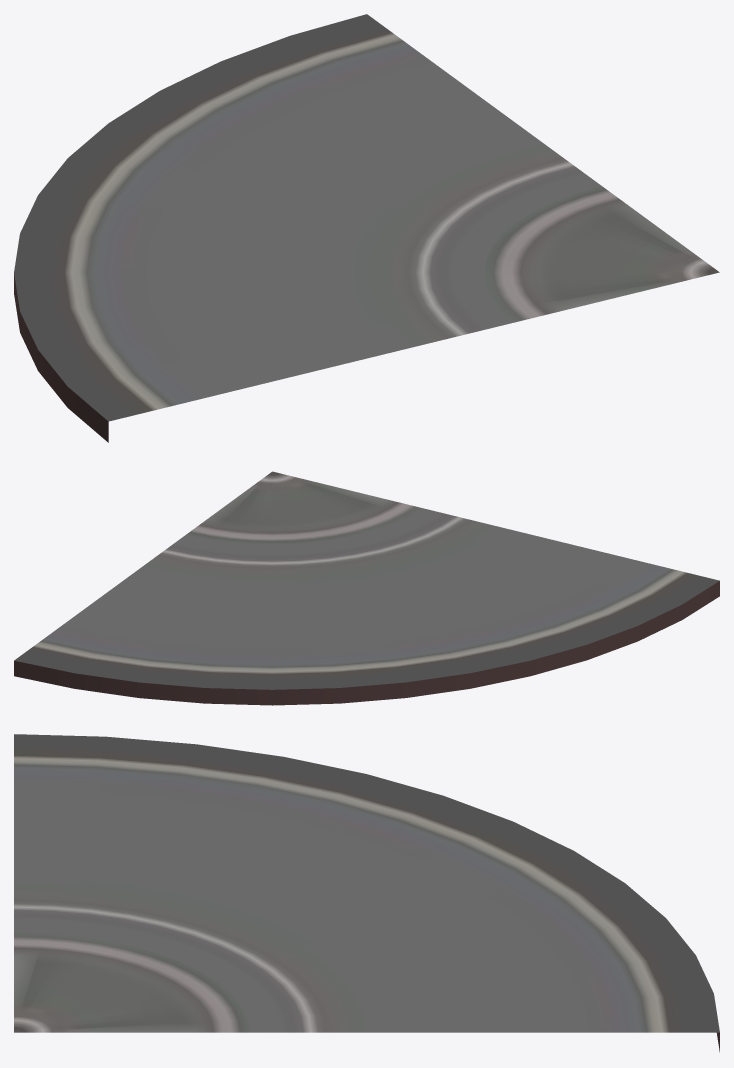
Rendered from BottomMetal_Corner_Square_Outer_1.glb.
3 renders of one model, top to bottom at view 1: azimuth 30°, elevation 25°; view 2: azimuth 150°, elevation 25°; view 3: azimuth 270°, elevation 25°, orthographic. The views are drawn at different scales.
Parts seen in each view (by area): view 1: BottomMetal_Corner_Square_Outer_1; view 2: BottomMetal_Corner_Square_Outer_1; view 3: BottomMetal_Corner_Square_Outer_1.
Part boxes in pixels (box(x1,y1,x2,y2)): BottomMetal_Corner_Square_Outer_1: box(14, 14, 719, 442); BottomMetal_Corner_Square_Outer_1: box(14, 471, 719, 705); BottomMetal_Corner_Square_Outer_1: box(14, 734, 719, 1052).
Size of the model in its own units: 0.6 by 0.02 by 0.6.
Materials: 2 (2 with a texture image).
